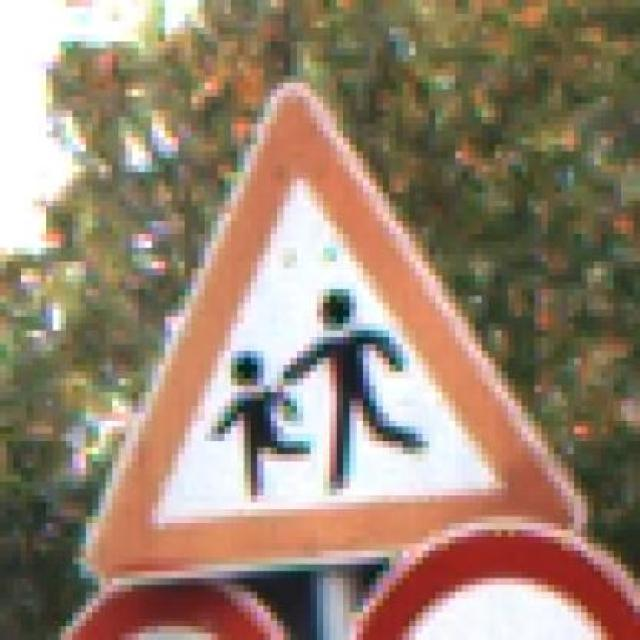Beware of children: (72, 76, 608, 578)
